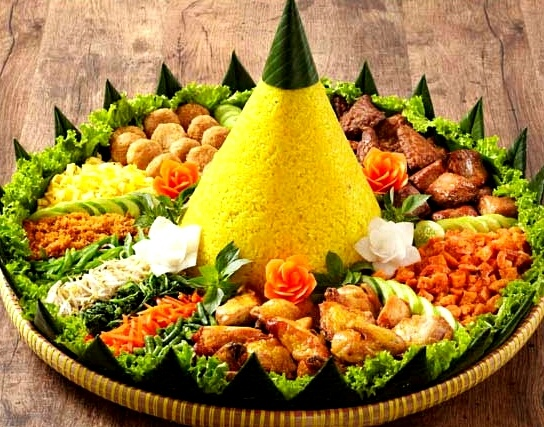nasi_tumpeng: (22, 1, 535, 390)
